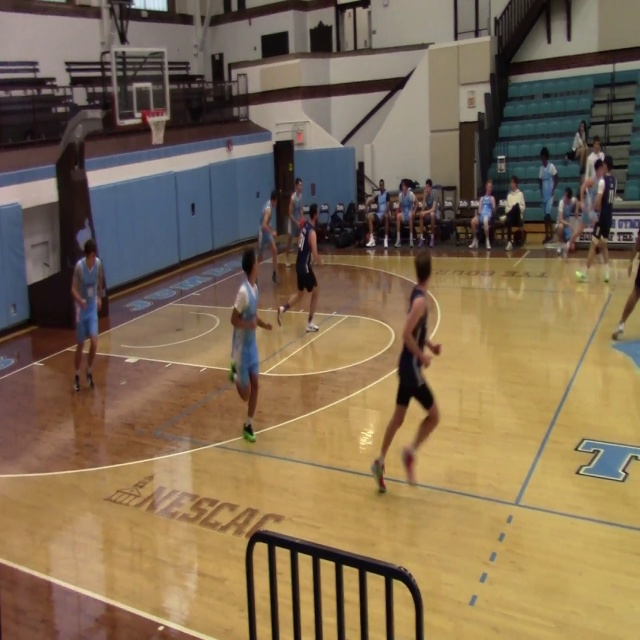Basketball: (575, 269, 583, 279)
